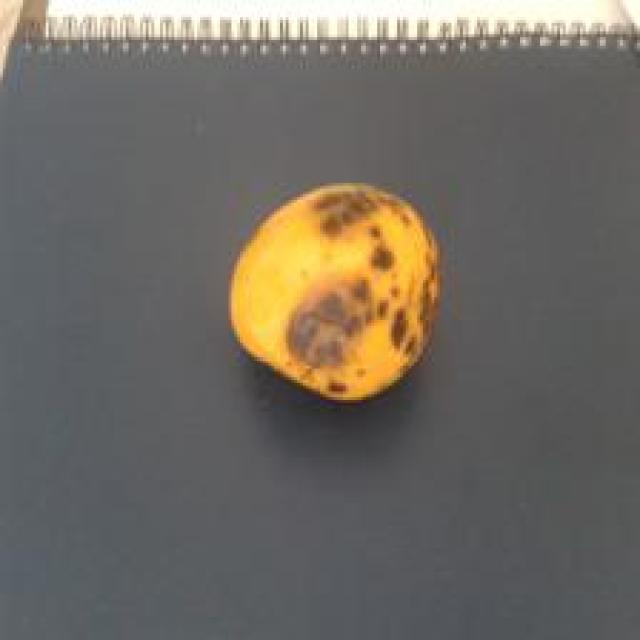black spot: (229, 166, 446, 406)
